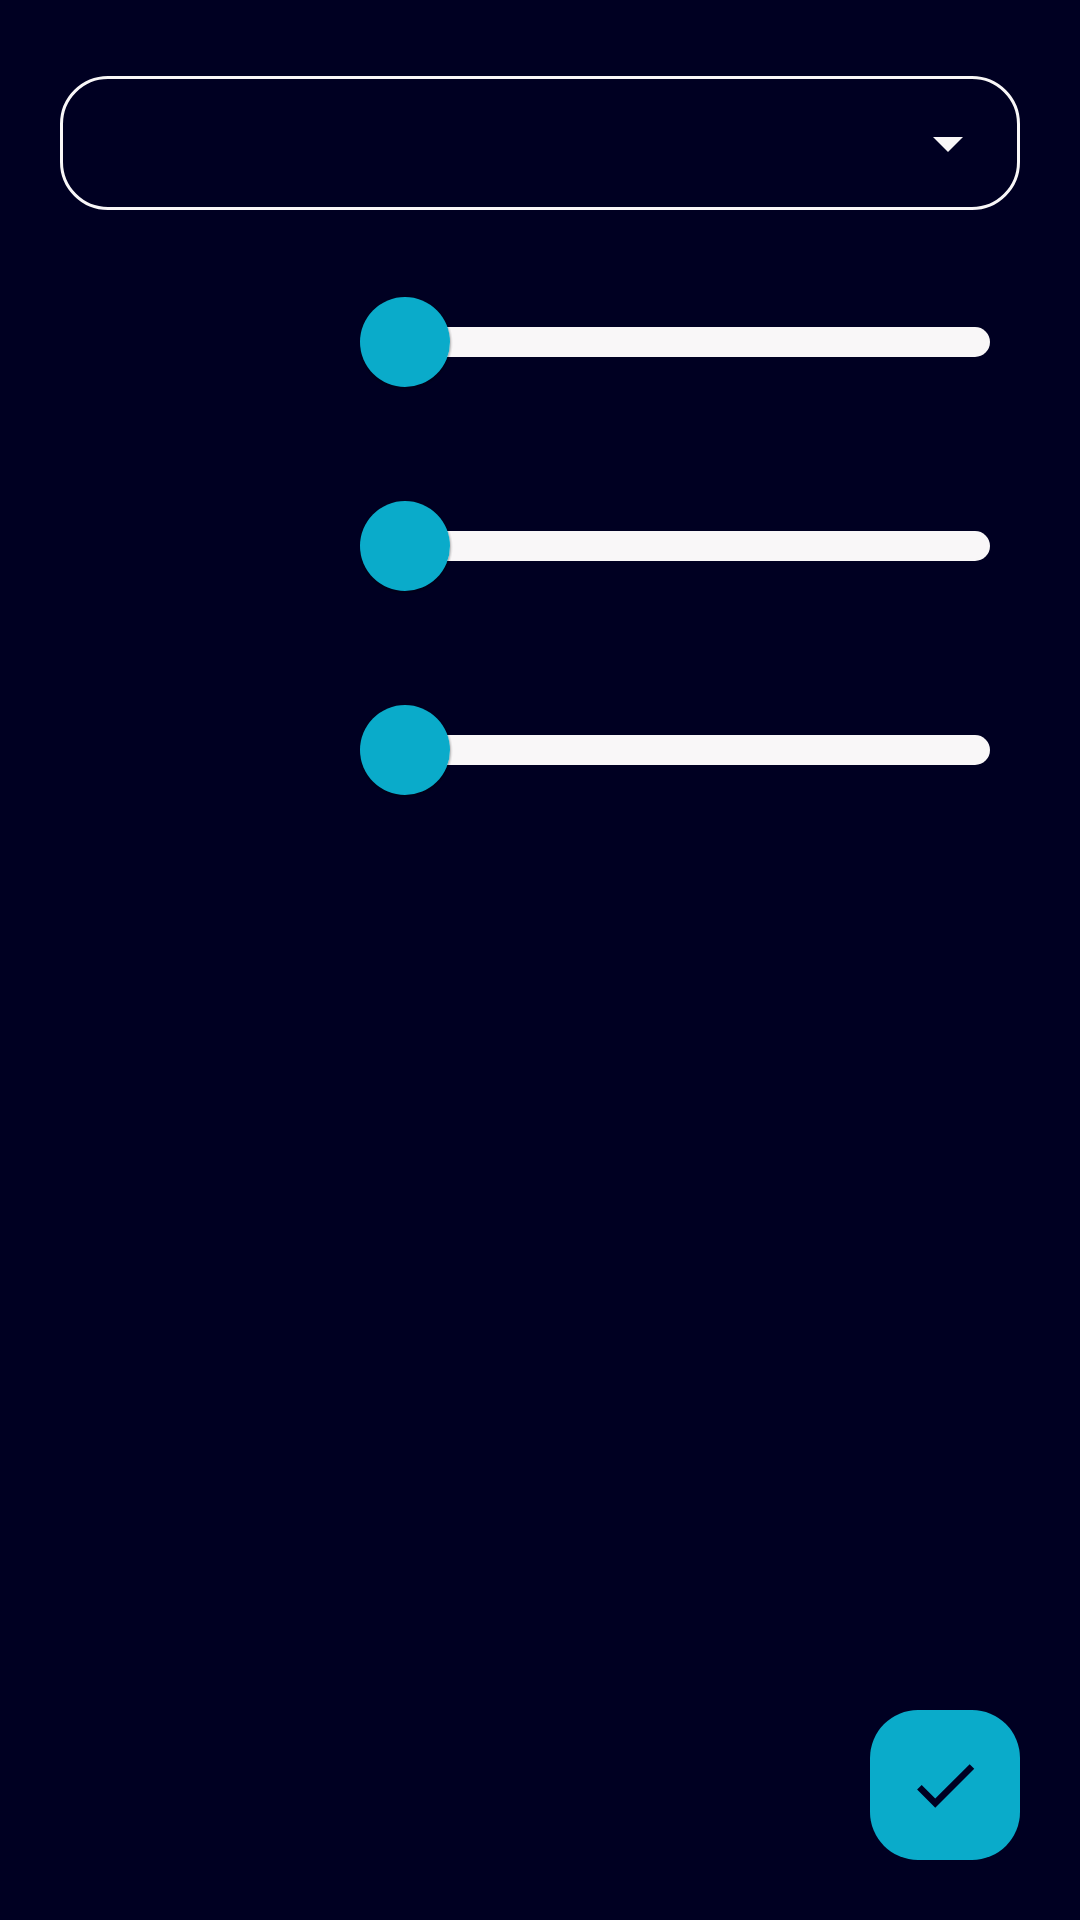

Screen size 1080px×1920px. Icon name, then its center in pixels as (x,y):
Confirm: (945,1785)
